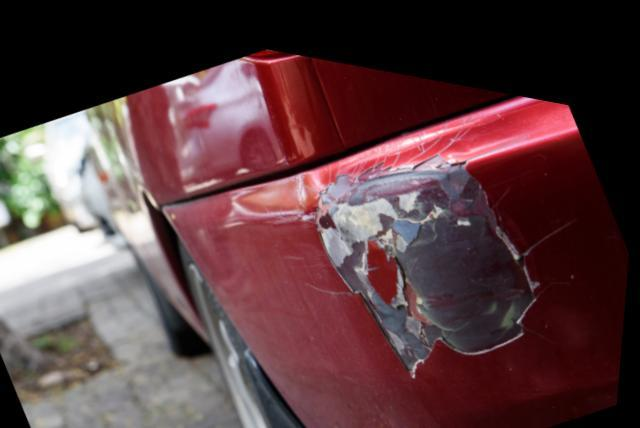scratch: (310, 130, 556, 364)
